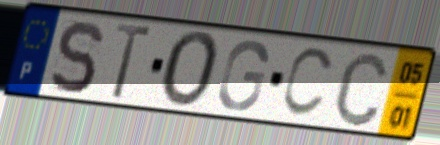C: (331, 49, 391, 130), (278, 45, 338, 121)
G: (215, 38, 271, 114)
O: (158, 29, 224, 112)
S: (47, 17, 105, 96)
T: (110, 21, 156, 102)
